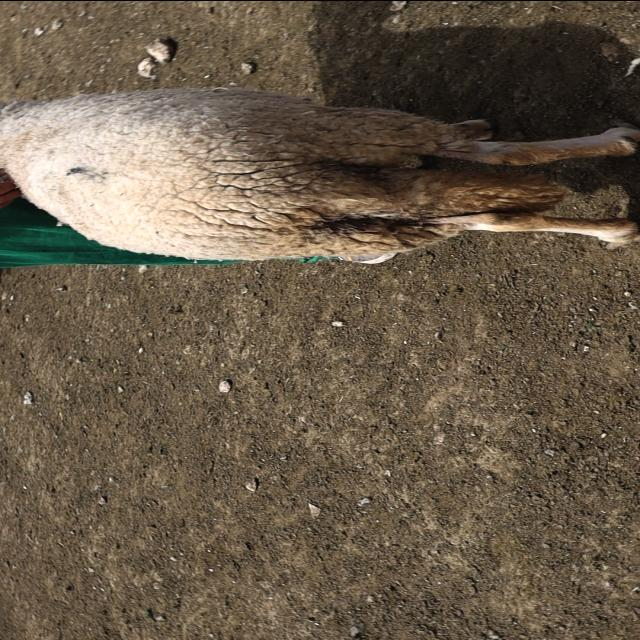Score_4: (0, 87, 639, 260)
